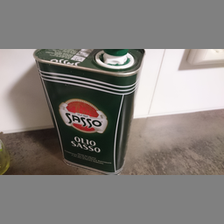oil: (34, 49, 147, 172)
